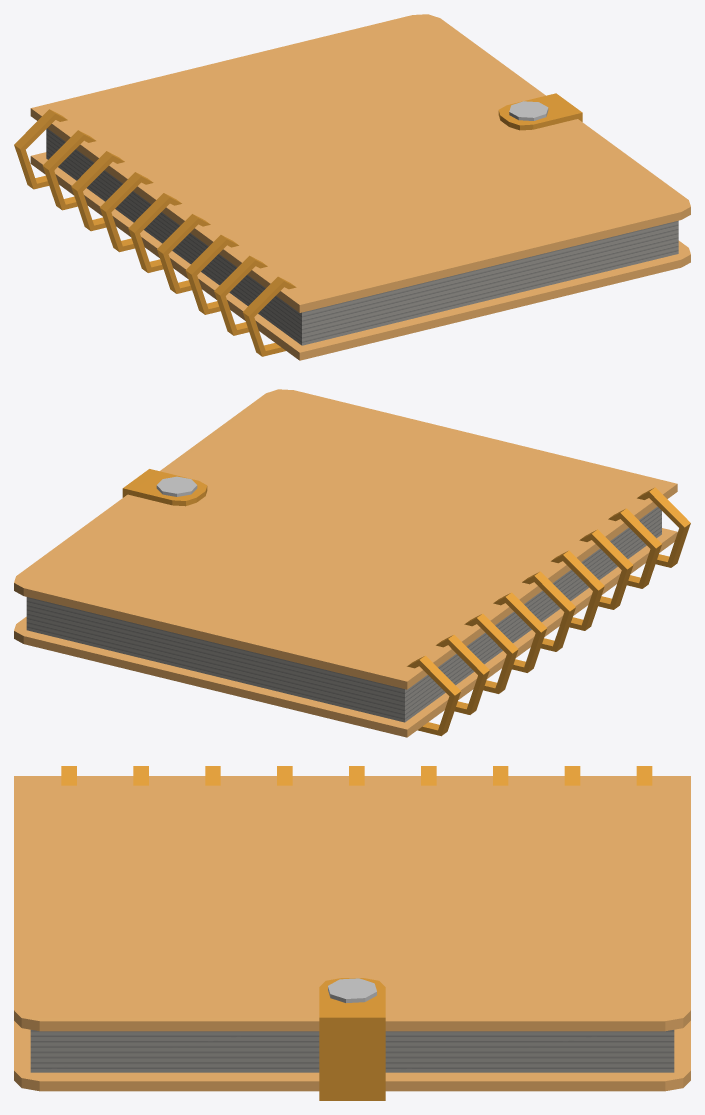
File: Int_OfficeNotebook01_3.fbx
3 views of the same model, one above another, from view 1: azimuth 30°, elevation 25°; view 2: azimuth 150°, elevation 25°; view 3: azimuth 270°, elevation 25° (orthographic). The views are drawn at different scales.
Visible parts, largest first — view 1: Int_OfficeNotebook01_3; view 2: Int_OfficeNotebook01_3; view 3: Int_OfficeNotebook01_3.
Boxes of the visible parts, x1=… form: Int_OfficeNotebook01_3: x1=14, y1=14, x2=690, y2=360; Int_OfficeNotebook01_3: x1=14, y1=389, x2=690, y2=737; Int_OfficeNotebook01_3: x1=14, y1=766, x2=690, y2=1100.
Size of what is drawn, in the model's own units: 27.21 by 29.05 by 4.2.
